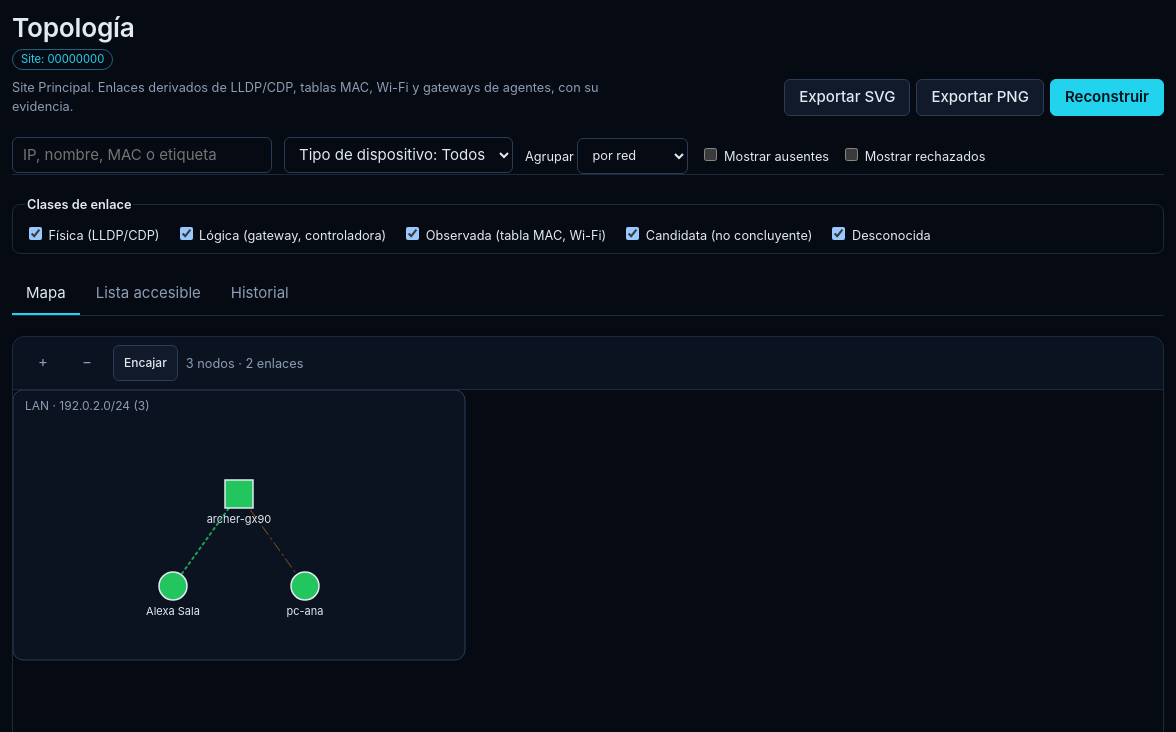
it: TopologyPage › admin reconstruye la topología del site
The image size is (1176, 732).
Step 1. Click the button "Reconstruir" → x=1107, y=98, box x1=1050 y1=79 x2=1164 y2=116
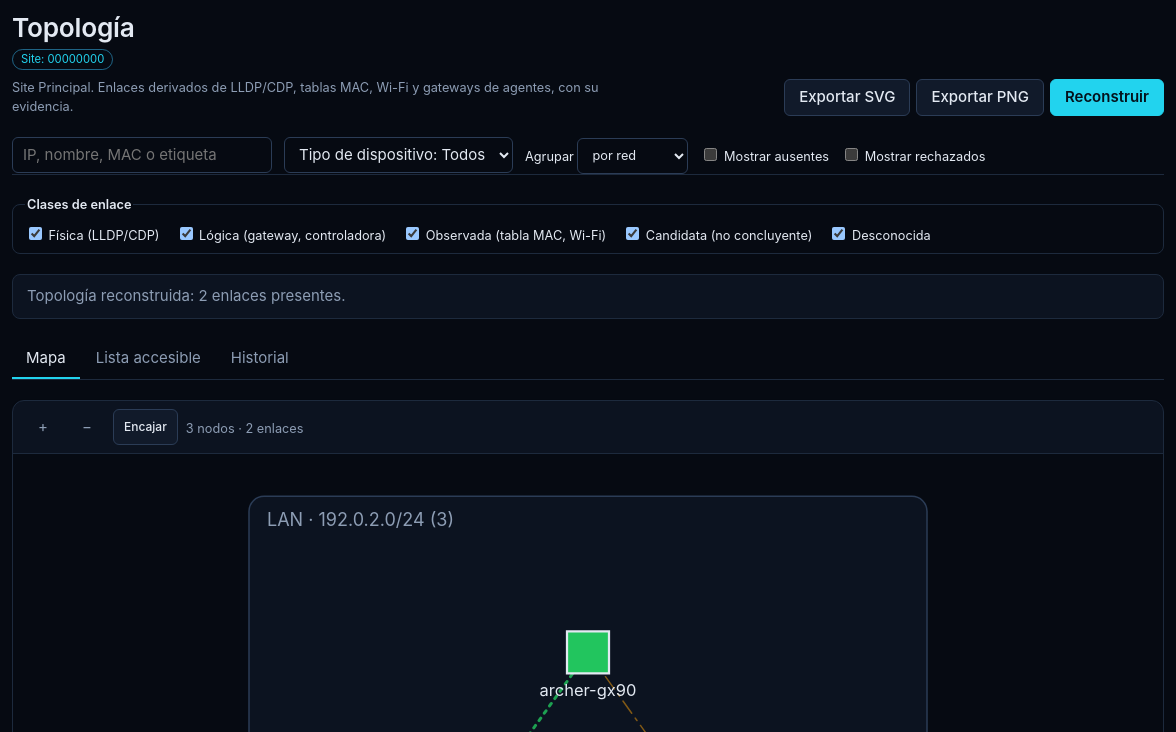
Check: the text "Topología reconstruida: 2 enlaces presentes." is shown, box x1=12 y1=274 x2=1164 y2=319
